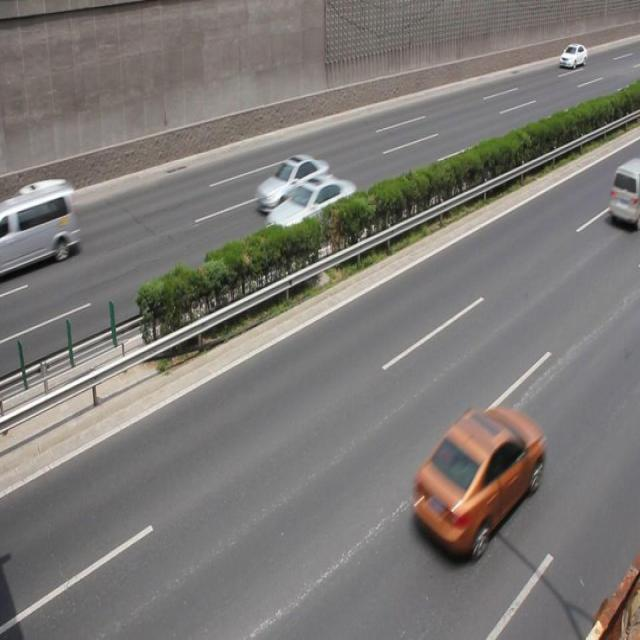car: (407, 402, 542, 562), (264, 173, 356, 245), (254, 154, 327, 215), (558, 42, 586, 71)
truck: (1, 179, 78, 274), (606, 159, 640, 228)
